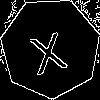X: (25, 23, 69, 76)
